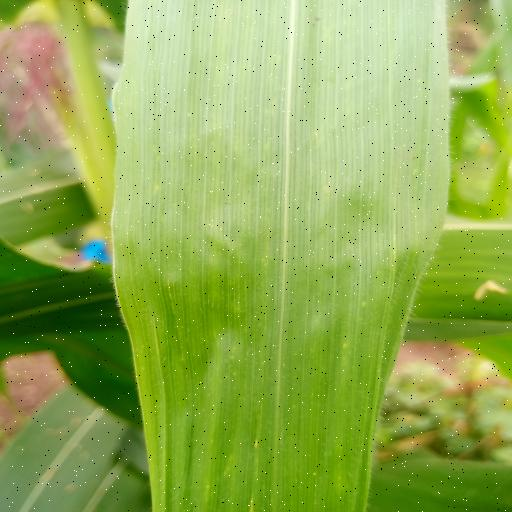Corn_Chlorotic_Leaf_Spot: (104, 0, 459, 512)
